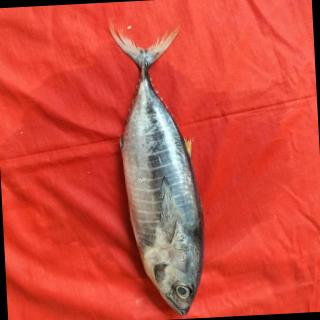Ikan: (100, 22, 221, 320)
